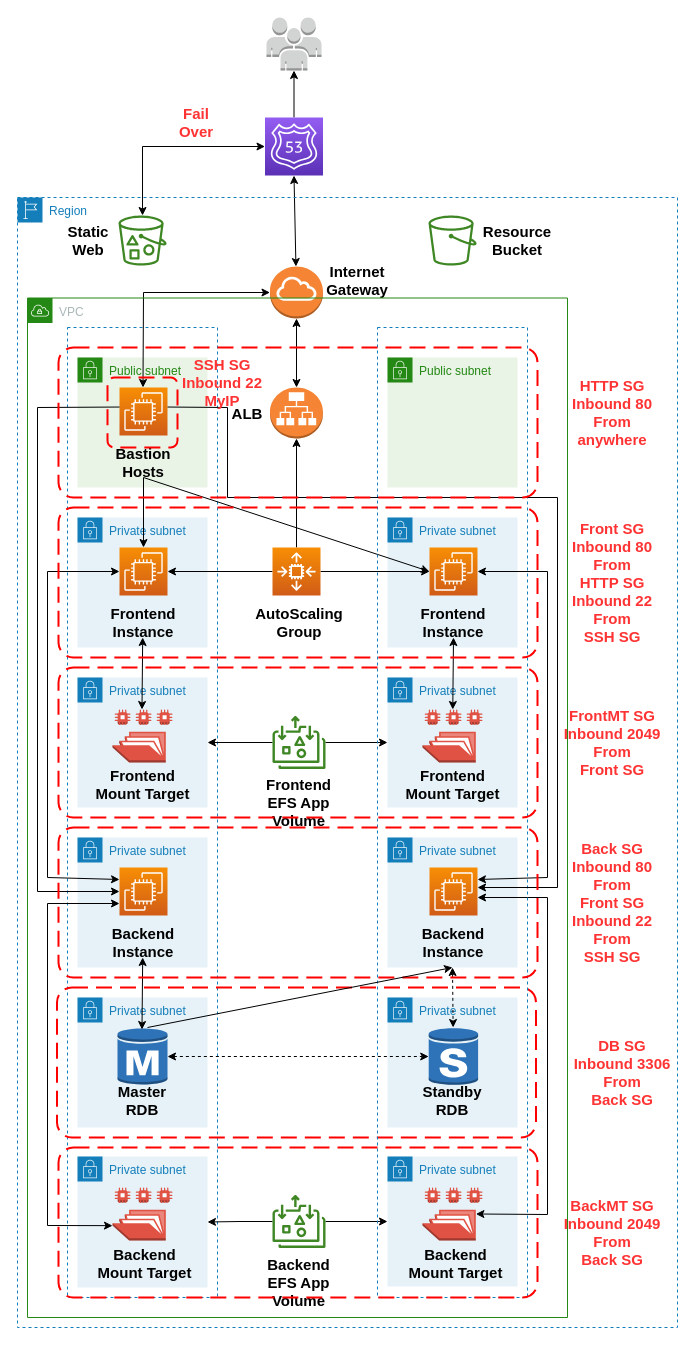
Some shapes in this 695 by 1345 pixel diagram are drawn without their labels. Here are the shapes that lost their labels. From the top down, the centre of each, then its label:
At point 142,812: "Availability Zone A".
At point 452,812: "Availability Zone C".
